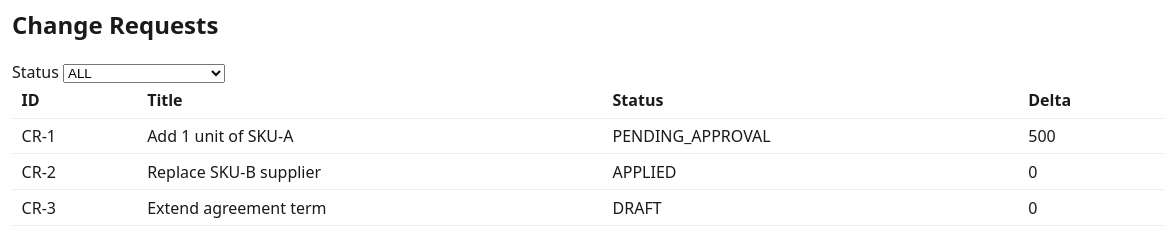
Test: CrListComponent › narrows rows to the selected status
The image size is (1164, 243).
Select "PENDING_APPROVAL" in the dropdown with class "cr-list__filter" at (144, 73), box [63,64,225,83]
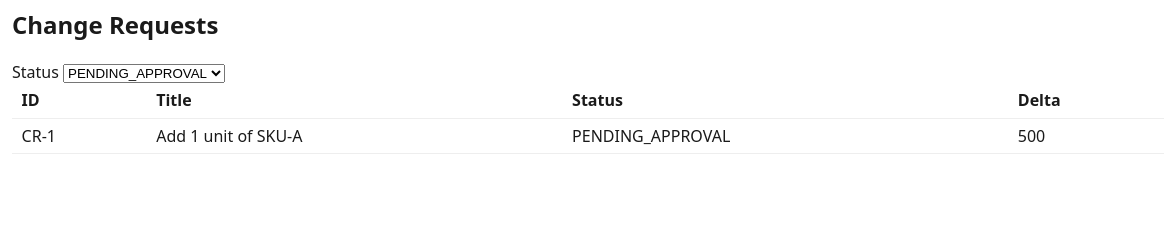
Check: the row with class "cr-list__row" shows "CR-1", box [22,125,56,147]
Check: the number of rows with class "cr-list__row" is 1, box [12,118,1163,154]
